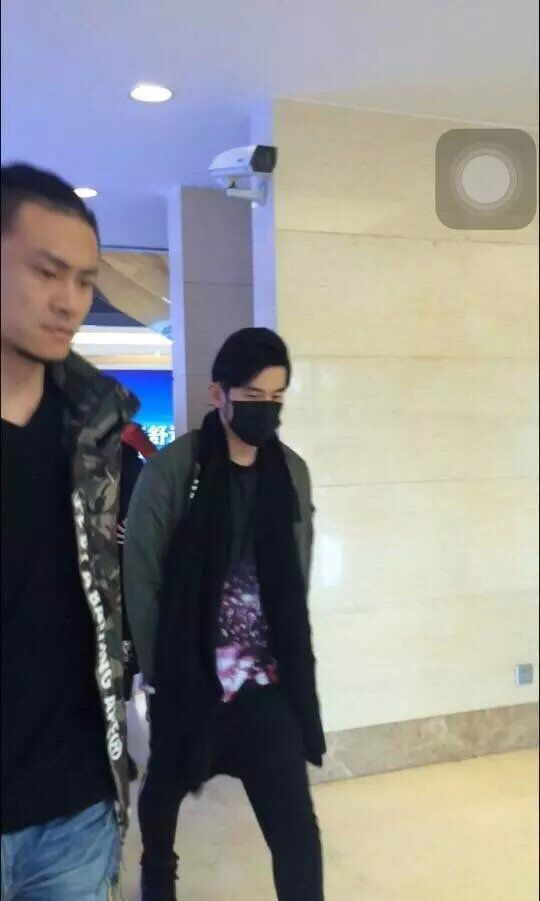face: (2, 212, 97, 362)
face_mask: (231, 362, 281, 444)
